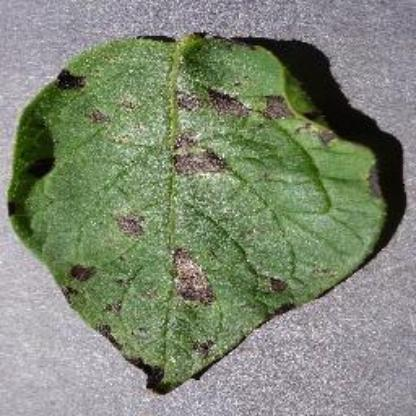Early-Blight: (8, 24, 410, 402)
